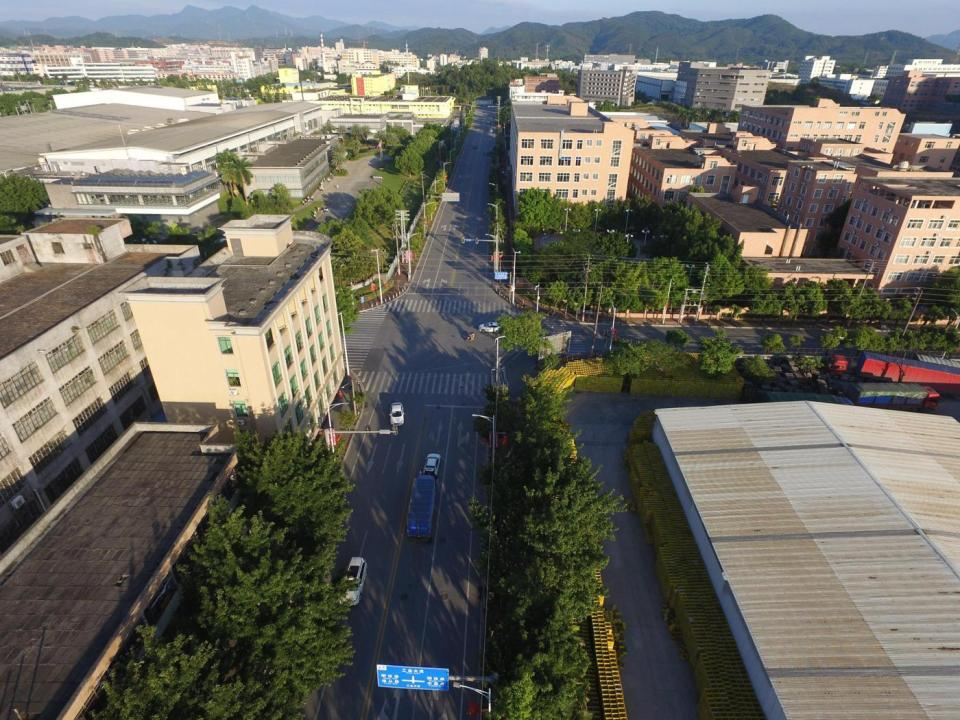car: (335, 555, 366, 607), (419, 452, 441, 481), (477, 320, 507, 334), (389, 401, 405, 427), (372, 174, 382, 180), (489, 127, 494, 134), (472, 143, 477, 149)
truck: (824, 354, 960, 404), (848, 384, 942, 417), (409, 472, 435, 548)
